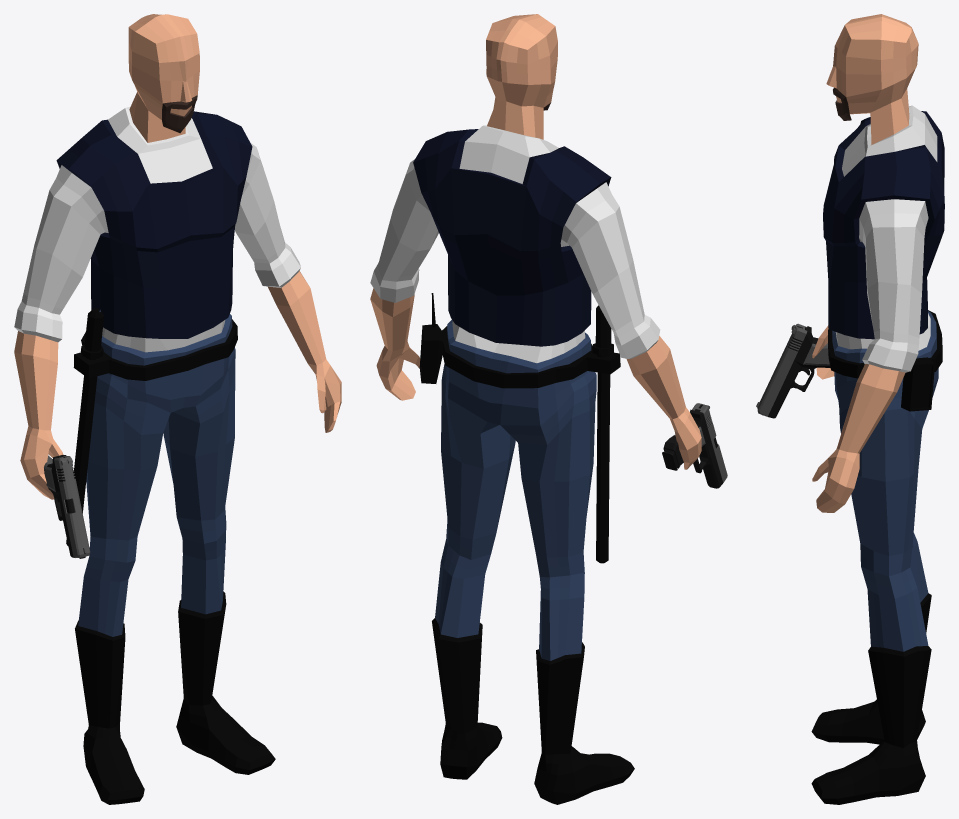
The model's file is low_poly_security_guard.glb.
3 views of the same model, side by side, from view 1: azimuth 30°, elevation 25°; view 2: azimuth 150°, elevation 25°; view 3: azimuth 270°, elevation 25° (orthographic).
Visible parts, largest first — view 1: Object_8, Object_6, Object_4, Object_5, Object_7, Object_9, Object_10, Object_3; view 2: Object_8, Object_6, Object_4, Object_5, Object_7, Object_10, Object_9; view 3: Object_8, Object_4, Object_7, Object_6, Object_5, Object_9, Object_10.
Part boxes in pixels (bbox=[...]): Object_8: bbox=[78, 310, 235, 636]; Object_6: bbox=[56, 111, 252, 338]; Object_4: bbox=[66, 308, 275, 804]; Object_5: bbox=[14, 106, 300, 352]; Object_7: bbox=[14, 14, 341, 499]; Object_9: bbox=[44, 455, 90, 557]; Object_10: bbox=[47, 455, 85, 558]; Object_3: bbox=[162, 95, 197, 133]; Object_8: bbox=[435, 320, 596, 660]; Object_6: bbox=[413, 129, 611, 346]; Object_4: bbox=[419, 293, 634, 804]; Object_5: bbox=[370, 125, 660, 363]; Object_7: bbox=[370, 14, 701, 469]; Object_10: bbox=[662, 404, 722, 488]; Object_9: bbox=[674, 403, 727, 482]; Object_8: bbox=[832, 311, 938, 651]; Object_4: bbox=[811, 310, 942, 804]; Object_7: bbox=[812, 14, 918, 512]; Object_6: bbox=[823, 111, 944, 339]; Object_5: bbox=[835, 105, 937, 372]; Object_9: bbox=[756, 323, 829, 416]; Object_10: bbox=[762, 326, 830, 418].
Bounding box in the file's own units: 0.8463 × 1.91 × 0.4365.
